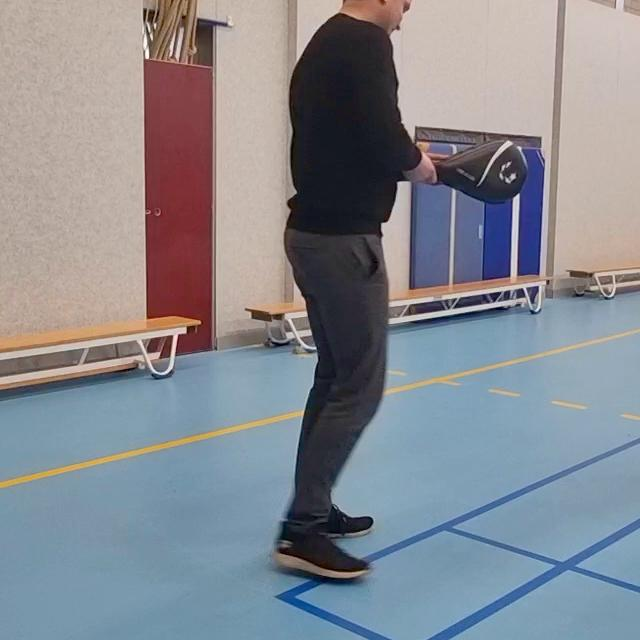paddle: (429, 138, 527, 206)
